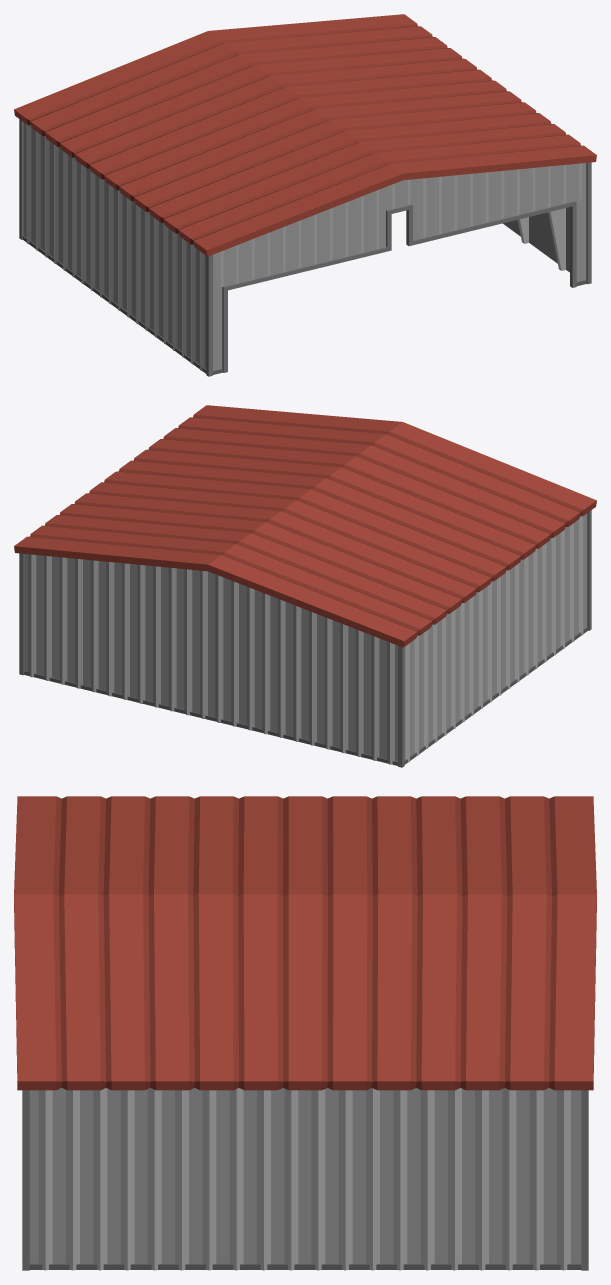
Rendered from Hanger.fbx.
The picture shows the model from 3 angles, top to bottom: view 1: azimuth 30°, elevation 25°; view 2: azimuth 150°, elevation 25°; view 3: azimuth 270°, elevation 25°; orthographic projection. The views are drawn at different scales.
Parts seen in each view (by area): view 1: Hanger; view 2: Hanger; view 3: Hanger.
Boxes of the visible parts, <box> form: Hanger: <box>14,14,596,376</box>; Hanger: <box>14,405,596,767</box>; Hanger: <box>14,796,596,1270</box>.
Size of the model in its own units: 3880 by 1505 by 3356.
